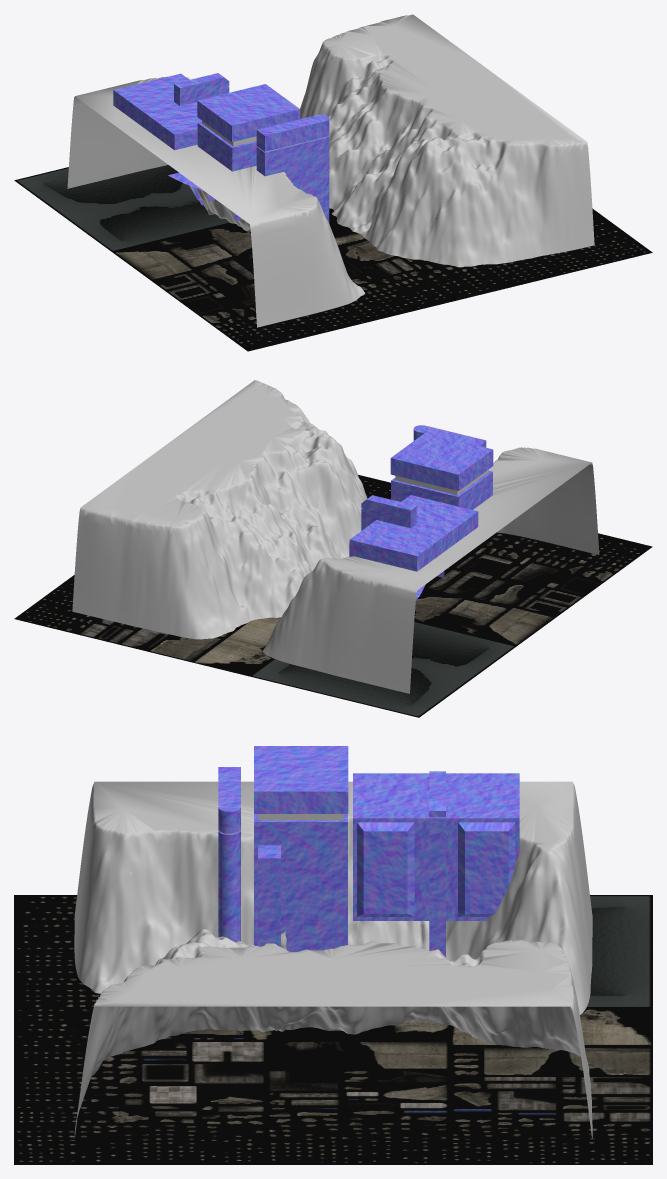
The model's file is cliff.obj.
The picture shows the model from 3 angles, top to bottom: view 1: azimuth 30°, elevation 25°; view 2: azimuth 150°, elevation 25°; view 3: azimuth 270°, elevation 25°; orthographic projection. The views are drawn at different scales.
Parts seen in each view (by area): view 1: Plane, Plane.001; view 2: Plane, Plane.001; view 3: Plane, Plane.001.
Boxes of the visible parts, <box> form: Plane: <box>67,14,594,327</box>; Plane.001: <box>14,165,652,351</box>; Plane: <box>72,380,599,693</box>; Plane.001: <box>14,474,652,717</box>; Plane: <box>74,746,592,1138</box>; Plane.001: <box>14,895,652,1164</box>.
Size of the model in its own units: 120 by 41.6 by 120.
Materials: 4 (2 with a texture image).
